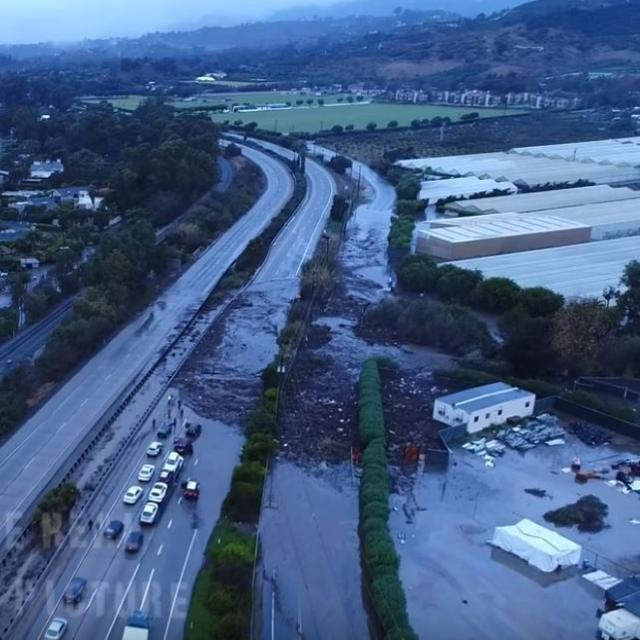traffic_incident: (168, 273, 446, 456)
